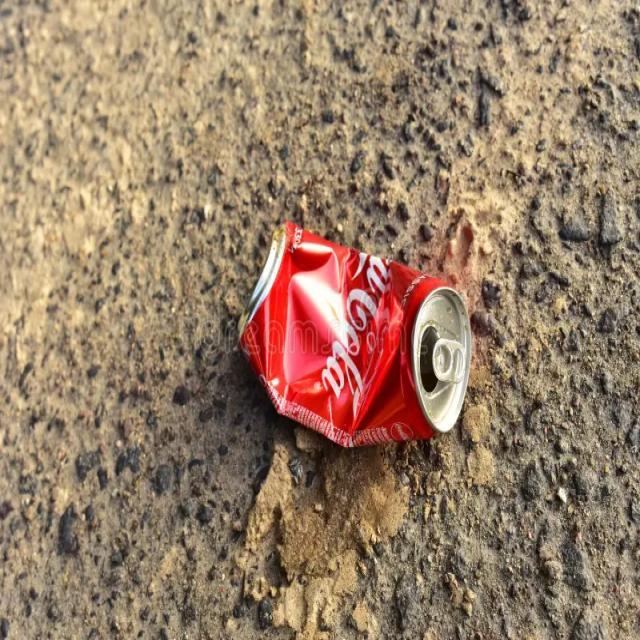aluminum_can: (211, 180, 496, 472)
